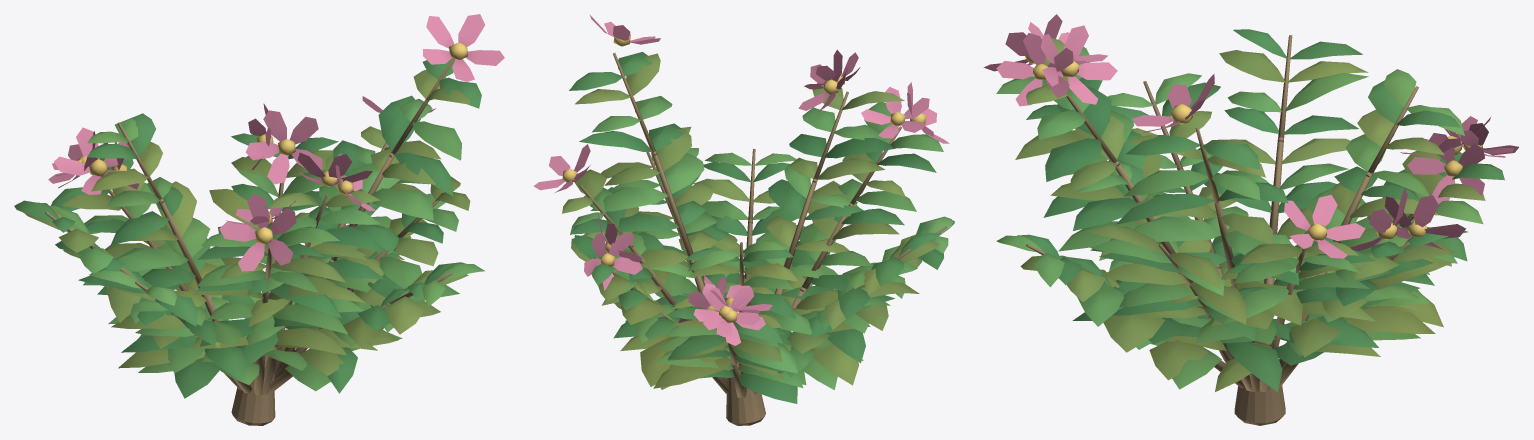
The model's file is flower_bush.f1e80745.glb.
3 renders of one model, left to right at view 1: azimuth 30°, elevation 25°; view 2: azimuth 150°, elevation 25°; view 3: azimuth 270°, elevation 25°, orthographic. The views are drawn at different scales.
Parts seen in each view (by area): view 1: flower_bush; view 2: flower_bush; view 3: flower_bush.
Boxes of the visible parts, x1,y1,x2,y2 form: flower_bush: (14, 14, 504, 425); flower_bush: (533, 14, 954, 425); flower_bush: (983, 14, 1518, 425).
Bounding box in the file's own units: 1.17 × 1.06 × 1.2.
